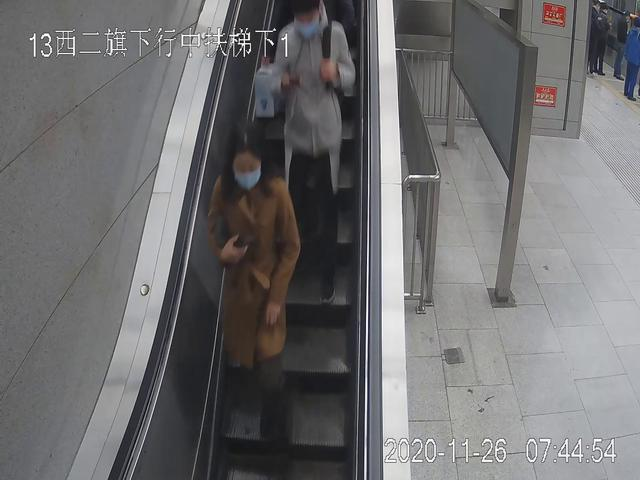person: (208, 121, 300, 465), (271, 2, 358, 301), (622, 17, 640, 101)
